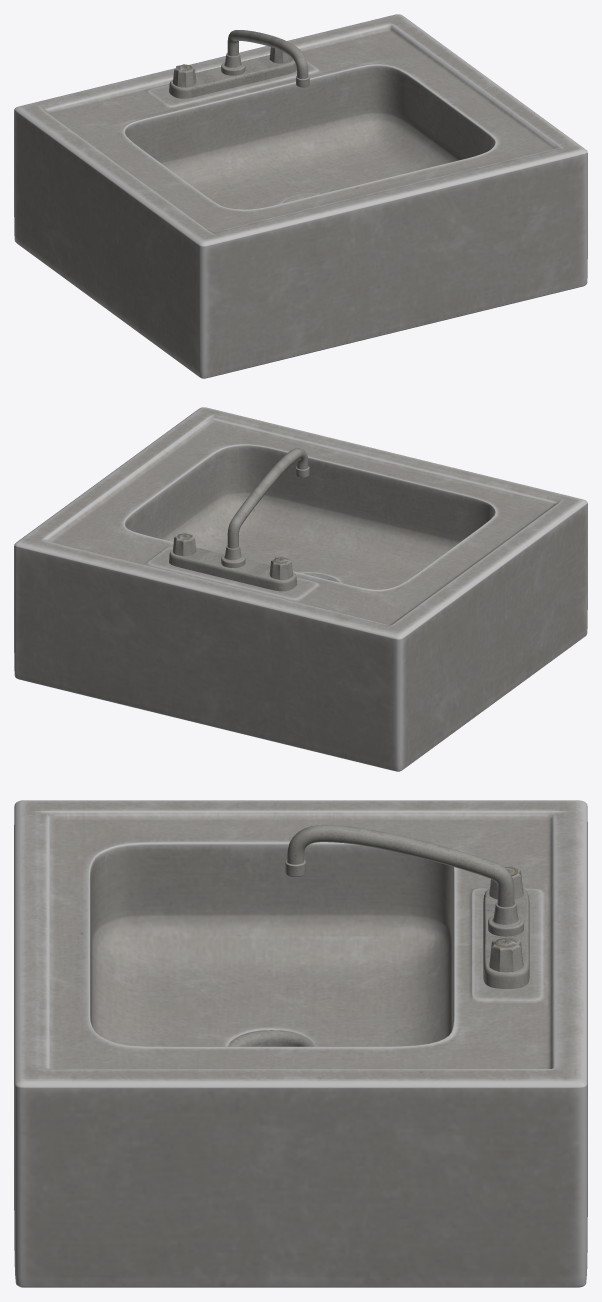
The model's file is sink.glb.
The picture shows the model from 3 angles, top to bottom: view 1: azimuth 30°, elevation 25°; view 2: azimuth 150°, elevation 25°; view 3: azimuth 270°, elevation 25°; orthographic projection. The views are drawn at different scales.
Parts seen in each view (by area): view 1: sink, faucetBase, spout, l_faucetHandle; view 2: sink, faucetBase, spout, l_faucetHandle, r_faucetHandle; view 3: sink, spout, faucetBase, drain, r_faucetHandle.
Boxes of the visible parts, x1=… form: sink: x1=14, y1=14, x2=587, y2=378; faucetBase: x1=169, y1=55, x2=296, y2=98; spout: x1=221, y1=30, x2=309, y2=87; l_faucetHandle: x1=173, y1=64, x2=196, y2=87; sink: x1=14, y1=407, x2=587, y2=771; faucetBase: x1=169, y1=547, x2=296, y2=591; spout: x1=221, y1=448, x2=309, y2=567; l_faucetHandle: x1=269, y1=556, x2=293, y2=579; r_faucetHandle: x1=173, y1=533, x2=196, y2=556; sink: x1=14, y1=800, x2=587, y2=1287; spout: x1=285, y1=825, x2=523, y2=936; faucetBase: x1=483, y1=888, x2=529, y2=988; drain: x1=228, y1=1030, x2=314, y2=1046; r_faucetHandle: x1=489, y1=937, x2=523, y2=972.
Size of the model in its own units: 0.6352 by 0.3323 by 0.5372.
2 materials, 2 textured.
